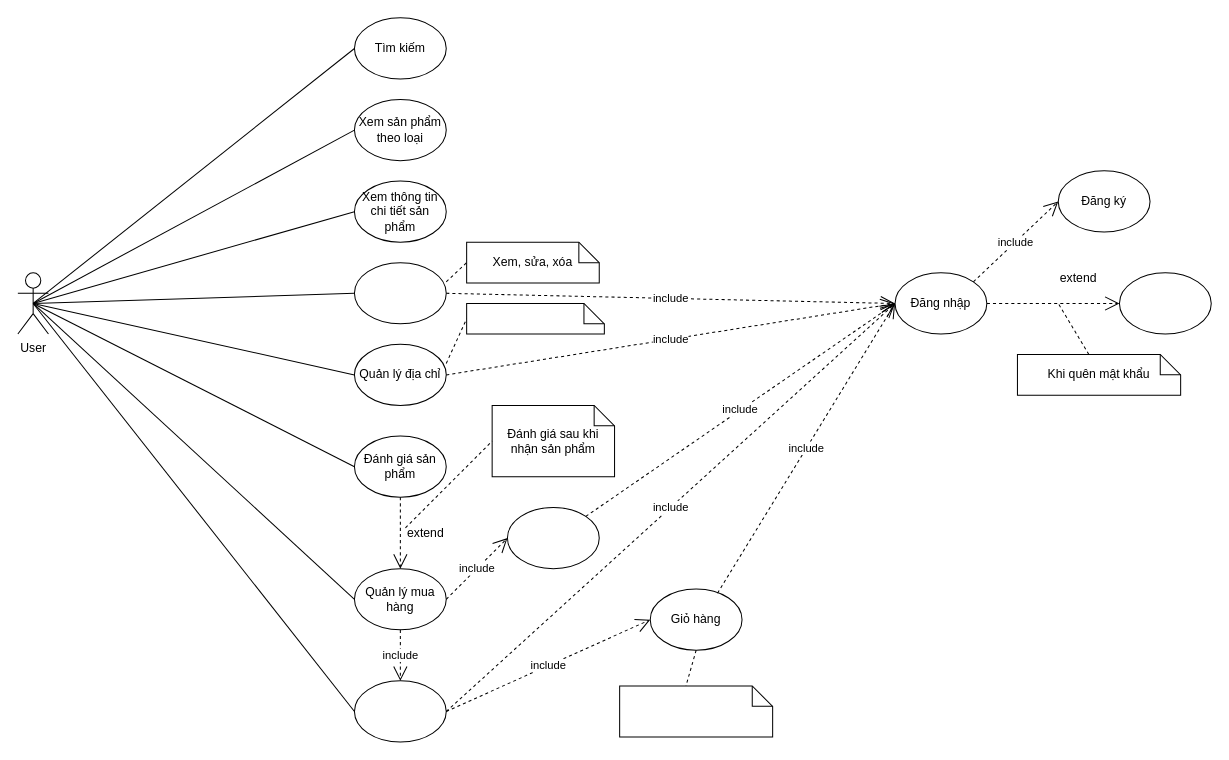
The diagram is 1229 pixels wide and 760 high, and some of its shapes have lost their labels. The box of each missing label's shape, as (x1, y1, x2, y2) in pixels:
Lịch sử đơn hàng: (506, 506, 599, 569)
Quên mật khẩu: (1118, 272, 1211, 334)
Quản lý thông tin cá nhân: (353, 262, 446, 324)
Thanh toán: (353, 680, 446, 742)
thêm, sửa ,xóa: (466, 302, 604, 334)
Xem, thêm, sửa ,xóa: (619, 685, 773, 737)
